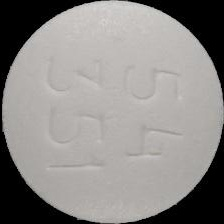0054-0279: (0, 0, 224, 224)
